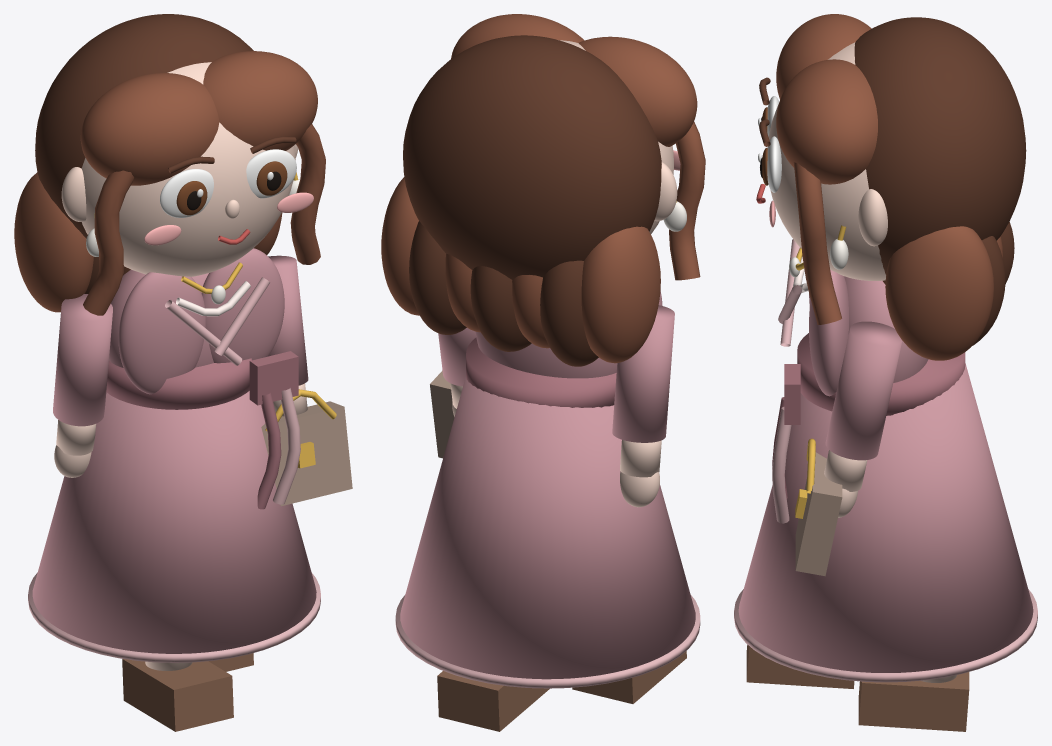
File: guest-08-master.glb
3 views of the same model, side by side, from view 1: azimuth 30°, elevation 25°; view 2: azimuth 150°, elevation 25°; view 3: azimuth 270°, elevation 25° (orthographic). The views are drawn at different scales.
Visible parts, largest first — view 1: Skirt, Head, Hair back, Hair left crown, Hair right crown, Left bolero panel, Back wave 1, Sleeve -1, Shoe -1, Right bolero panel, Guest08 left-hand handbag, Waist belt (+20 smaller); view 2: Skirt, Hair back, Back wave 1, Hair left crown, Sleeve -1, Waist belt, Back wave 2, Shoe 1, Skirt hem, Back wave 6, Face curl -1, Back wave 4 (+11 smaller); view 3: Skirt, Hair back, Back wave 7, Hair right crown, Sleeve 1, Head, Shoe 1, Face curl 1, Waist belt, Guest08 left-hand handbag, Skirt hem, Hair left crown (+11 smaller).
Boxes of the visible parts, left/top/right/bottom form: Skirt: left=32, top=391, right=316, bottom=653; Head: left=81, top=62, right=295, bottom=276; Hair back: left=35, top=14, right=253, bottom=238; Hair left crown: left=80, top=73, right=219, bottom=185; Hair right crown: left=203, top=51, right=317, bottom=150; Left bolero panel: left=118, top=272, right=205, bottom=394; Back wave 1: left=14, top=172, right=93, bottom=312; Sleeve -1: left=53, top=294, right=112, bottom=426; Shoe -1: left=122, top=659, right=233, bottom=731; Right bolero panel: left=201, top=248, right=284, bottom=363; Guest08 left-hand handbag: left=261, top=401, right=352, bottom=506; Waist belt: left=106, top=358, right=251, bottom=409; Skirt: left=400, top=377, right=695, bottom=679; Hair back: left=403, top=35, right=661, bottom=279; Back wave 1: left=581, top=226, right=660, bottom=363; Hair left crown: left=578, top=36, right=697, bottom=146; Sleeve -1: left=612, top=305, right=674, bottom=442; Waist belt: left=466, top=337, right=616, bottom=407; Back wave 2: left=540, top=260, right=598, bottom=366; Shoe 1: left=437, top=671, right=549, bottom=731; Skirt hem: left=395, top=595, right=700, bottom=688; Back wave 6: left=409, top=221, right=466, bottom=334; Face curl -1: left=669, top=121, right=705, bottom=280; Back wave 4: left=470, top=266, right=531, bottom=351; Skirt: left=738, top=363, right=1033, bottom=672; Hair back: left=854, top=17, right=1026, bottom=275; Back wave 7: left=885, top=226, right=993, bottom=360; Hair right crown: left=776, top=59, right=877, bottom=184; Sleeve 1: left=825, top=321, right=902, bottom=460; Head: left=767, top=42, right=885, bottom=280; Shoe 1: left=858, top=672, right=969, bottom=731; Face curl 1: left=793, top=162, right=841, bottom=324; Waist belt: left=797, top=333, right=965, bottom=415; Guest08 left-hand handbag: left=795, top=452, right=842, bottom=576; Skirt hem: left=734, top=589, right=1037, bottom=682; Hair left crown: left=776, top=14, right=871, bottom=99.
Size of the model in its own units: 1.34 by 3.16 by 1.3.
